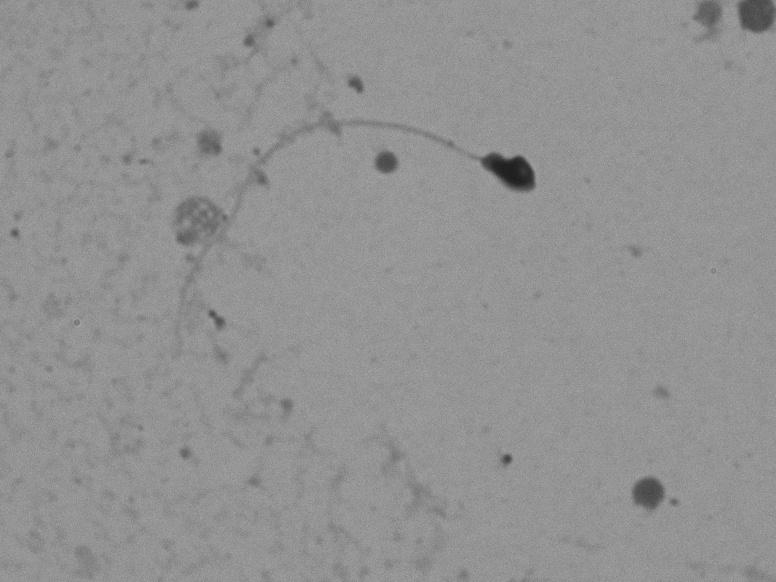Abnormal: (160, 81, 592, 384)
